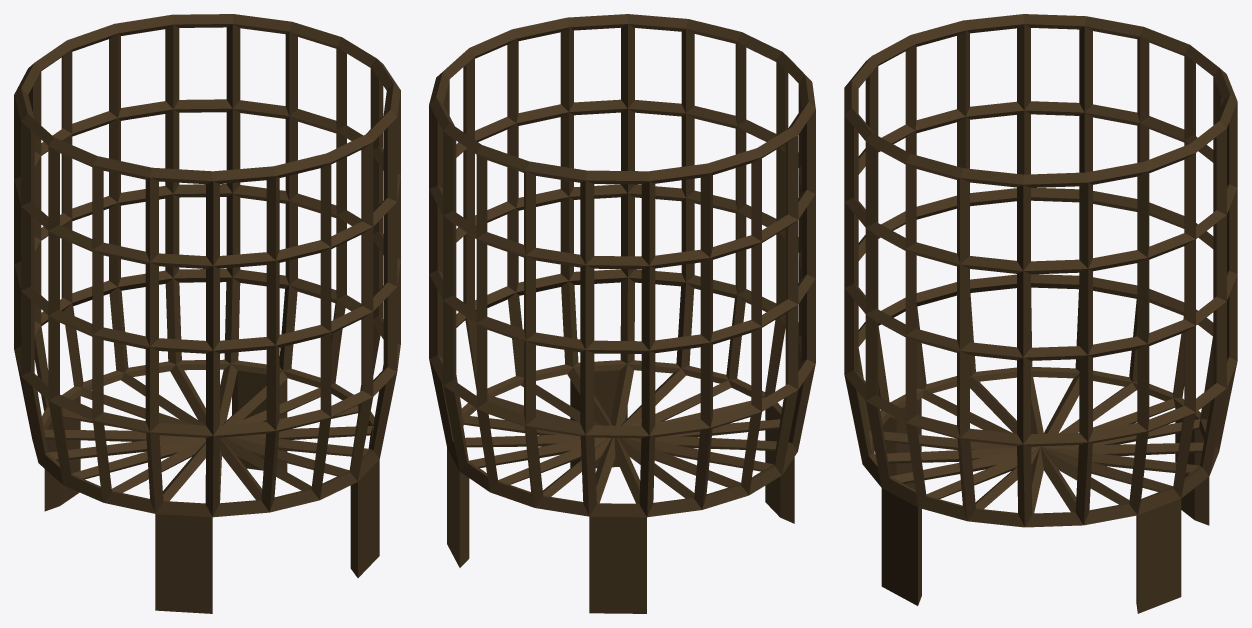
The picture shows the model from 3 angles, left to right: view 1: azimuth 30°, elevation 25°; view 2: azimuth 150°, elevation 25°; view 3: azimuth 270°, elevation 25°; orthographic projection.
Parts seen in each view (by area): view 1: Cylinder; view 2: Cylinder; view 3: Cylinder.
Part boxes in pixels (x1,y1,x2,y2): Cylinder: [14, 14, 400, 613]; Cylinder: [429, 14, 815, 613]; Cylinder: [844, 14, 1237, 613].
Bounding box in the file's own units: 207 × 264 × 206.
